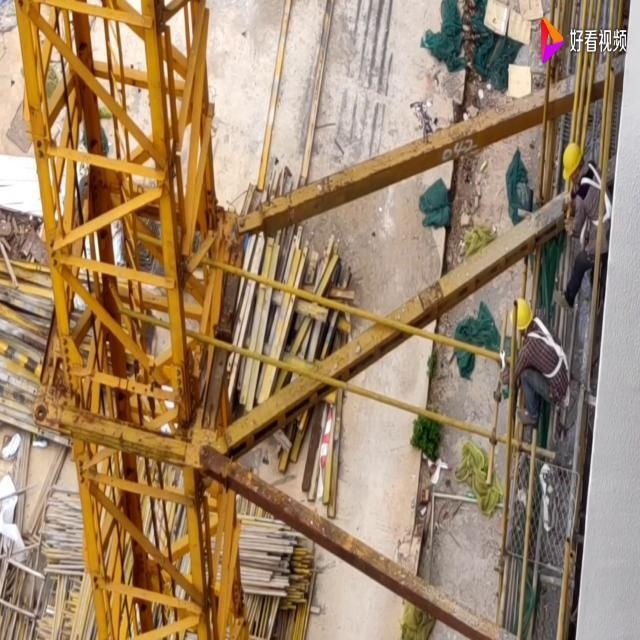Arnes_seguridad: (524, 311, 566, 381), (579, 158, 612, 228)
